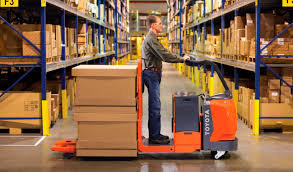Pallet Jack: (49, 54, 240, 161)
